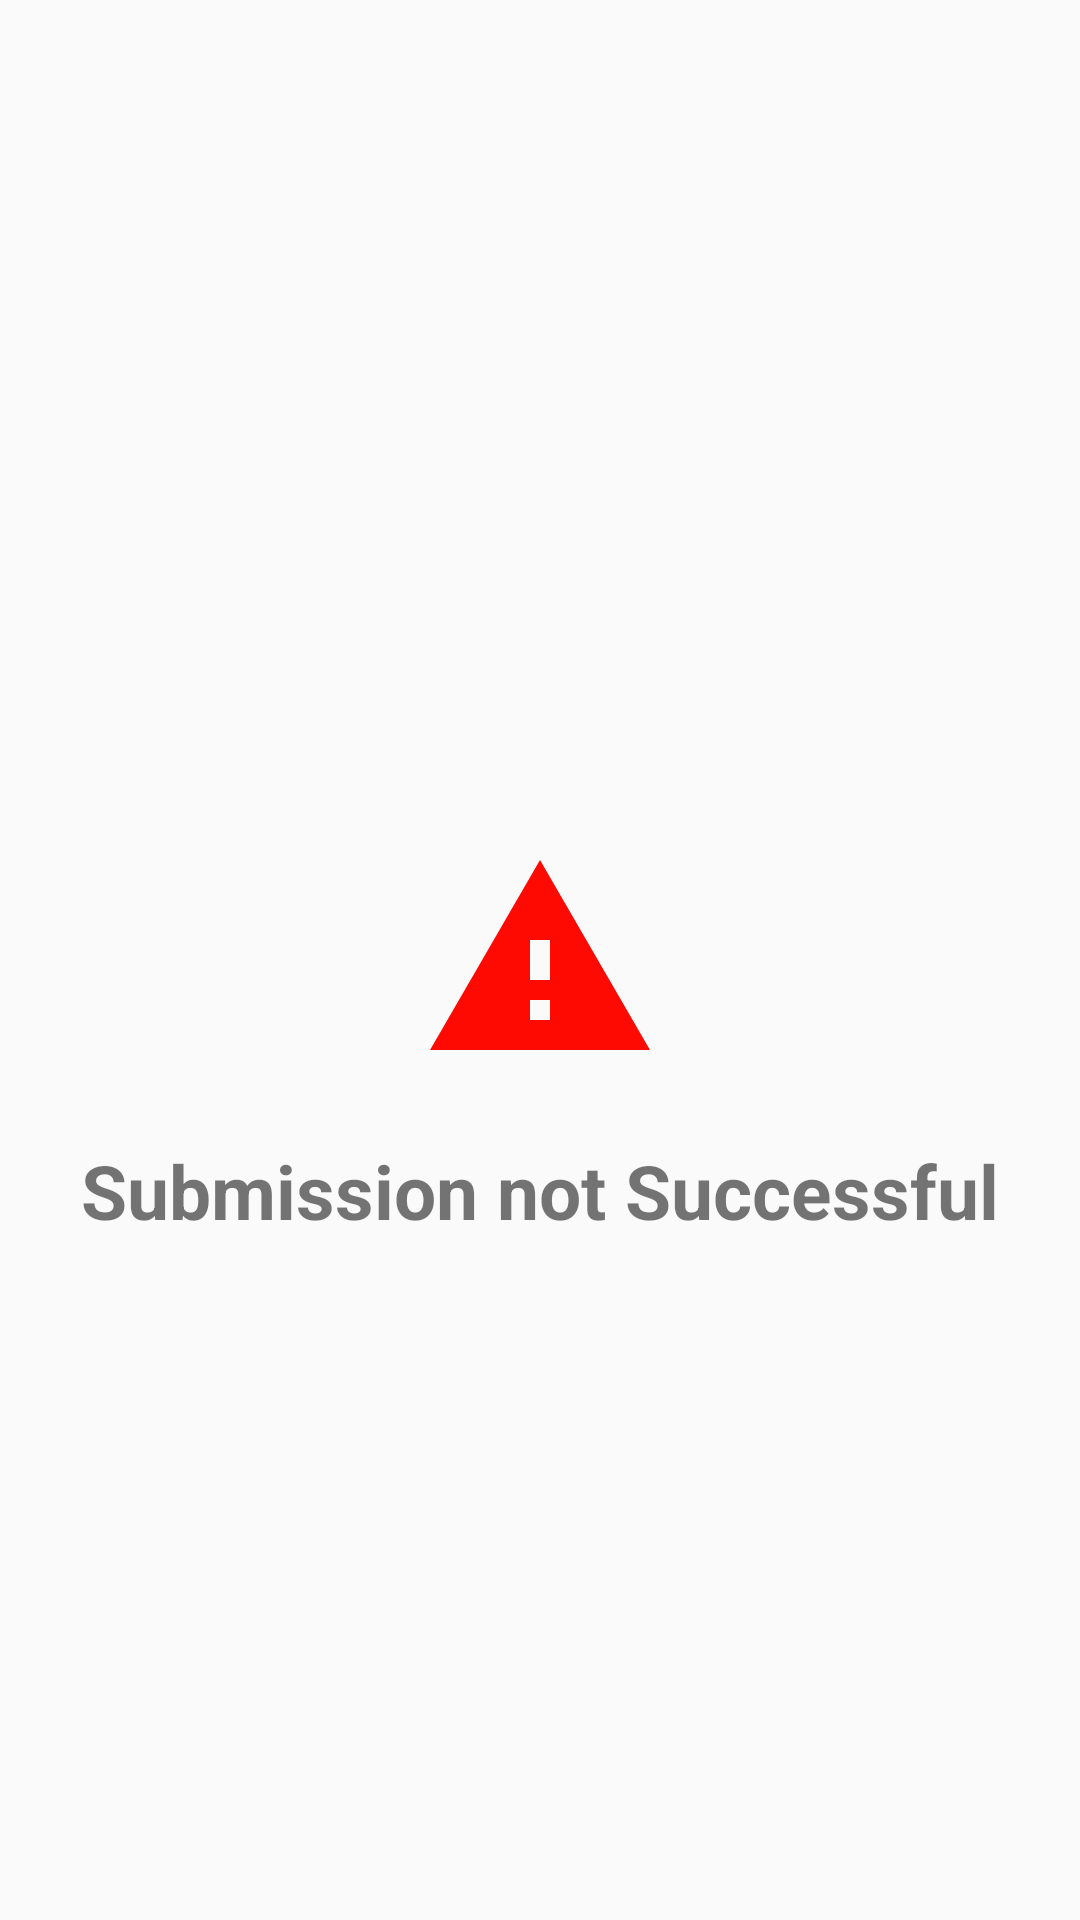

Named icons in this screenshot (1080 x 1920) and their bounding boxes, (x1, y1, x2, y2):
error occured: (430, 860, 650, 1050)
